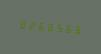five: (53, 20, 61, 34)
six: (35, 18, 43, 33), (71, 21, 79, 36), (62, 21, 70, 35)
two: (26, 17, 34, 32)
zero: (44, 19, 52, 34), (17, 17, 25, 31)
